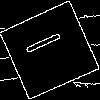I: (24, 25, 71, 57)
